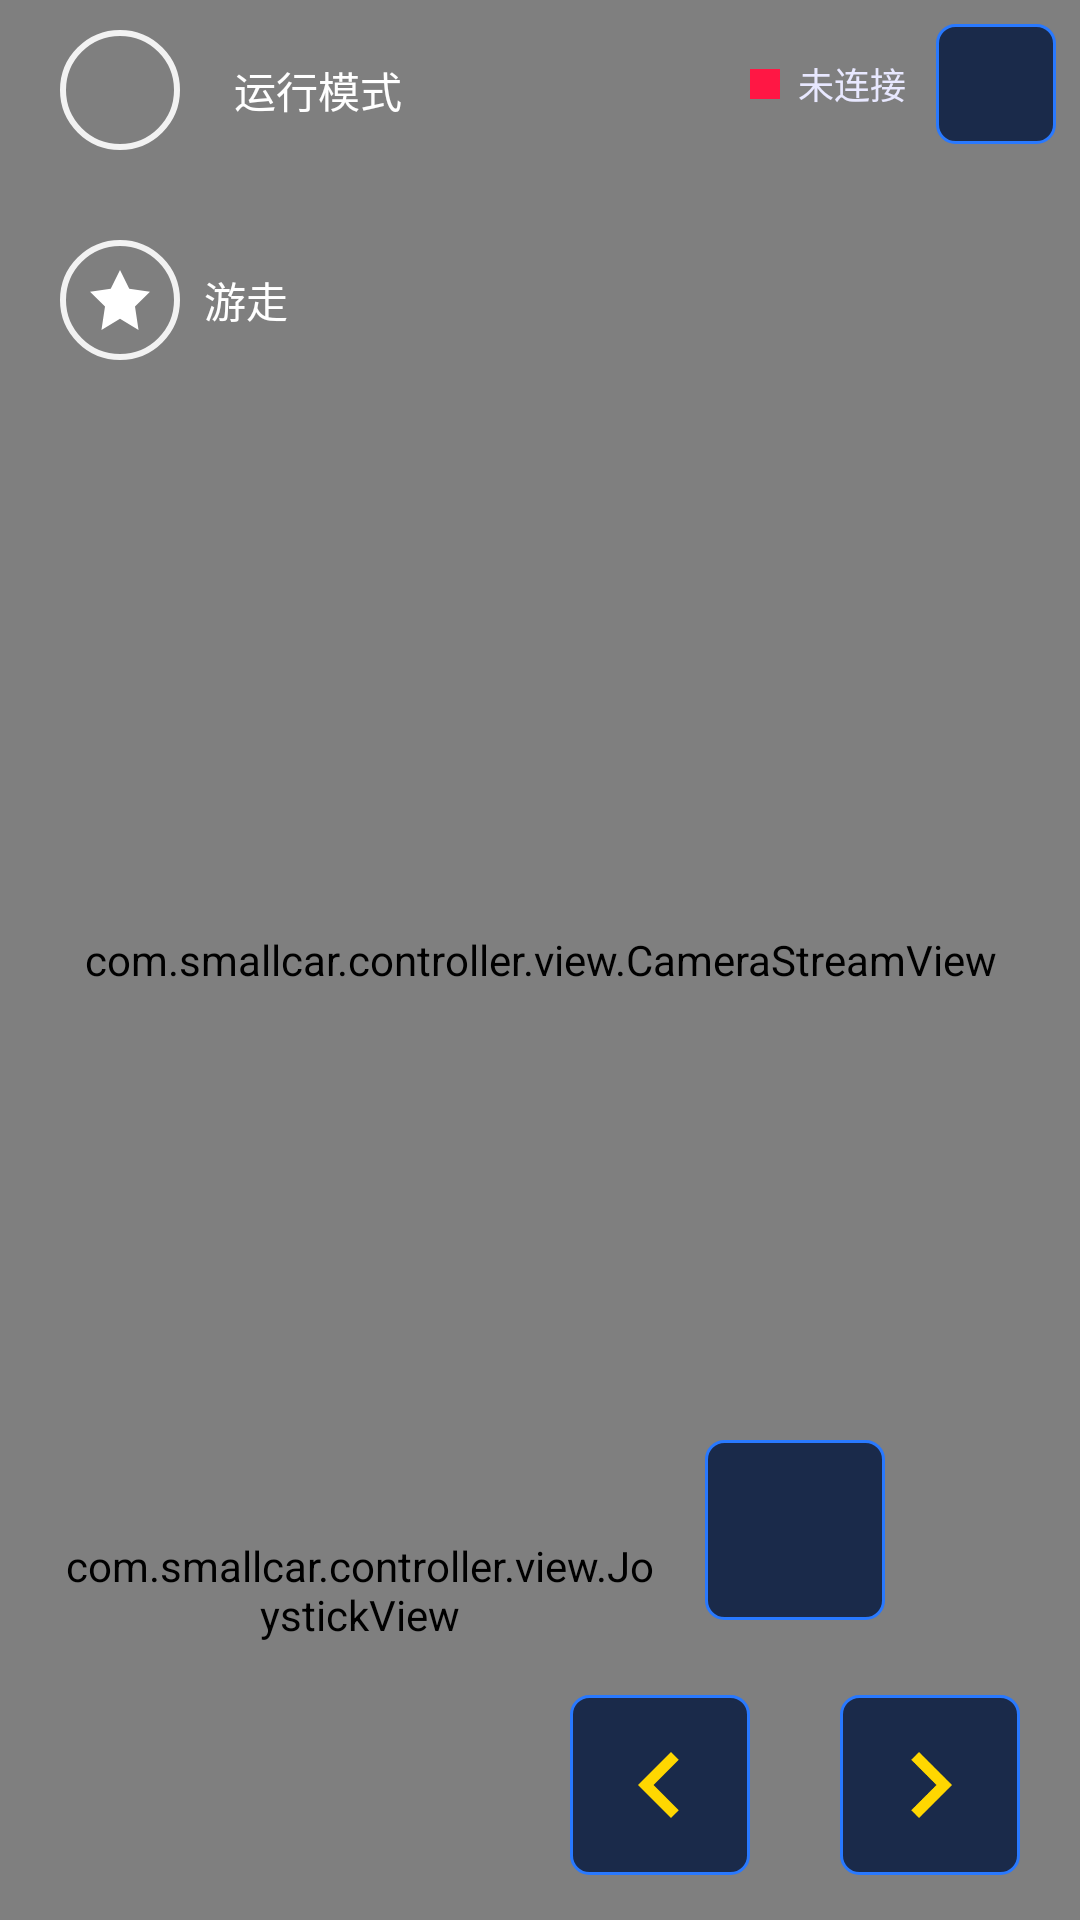

Icons on this 1080 x 1920 Android screen, each with the point to tap as (x,y):
舵机右: (930,1785)
舵机左: (660,1785)
